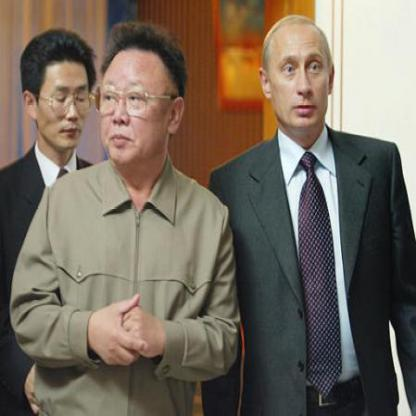face: (97, 36, 174, 173), (269, 17, 333, 133), (34, 39, 94, 152)
